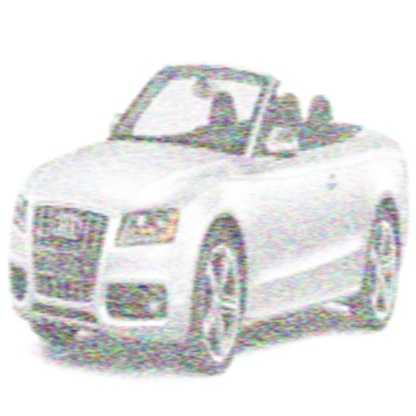Vehicle: (8, 60, 412, 384)
